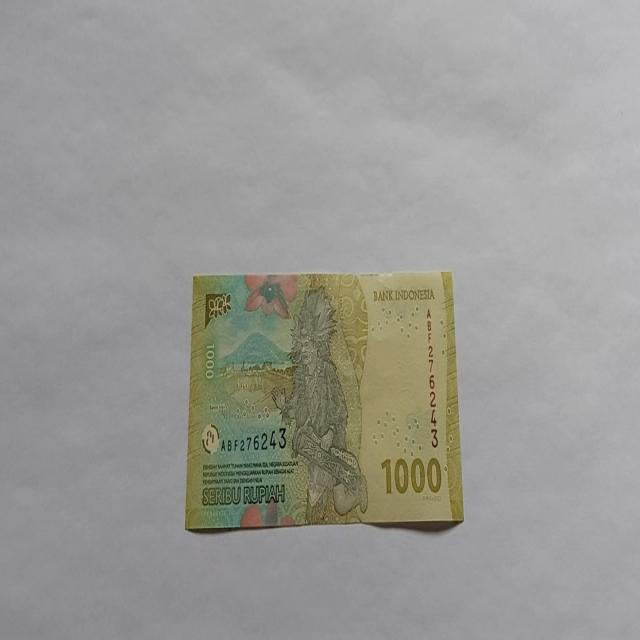seribu rupiah kertas: (184, 268, 464, 532)
